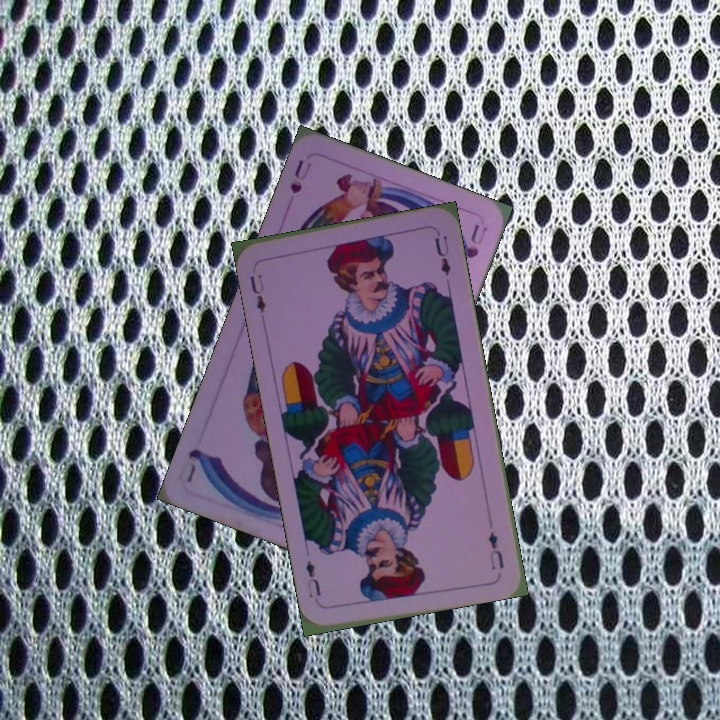EU: (245, 270, 268, 315), (484, 528, 507, 573)
SU: (285, 155, 315, 197)
